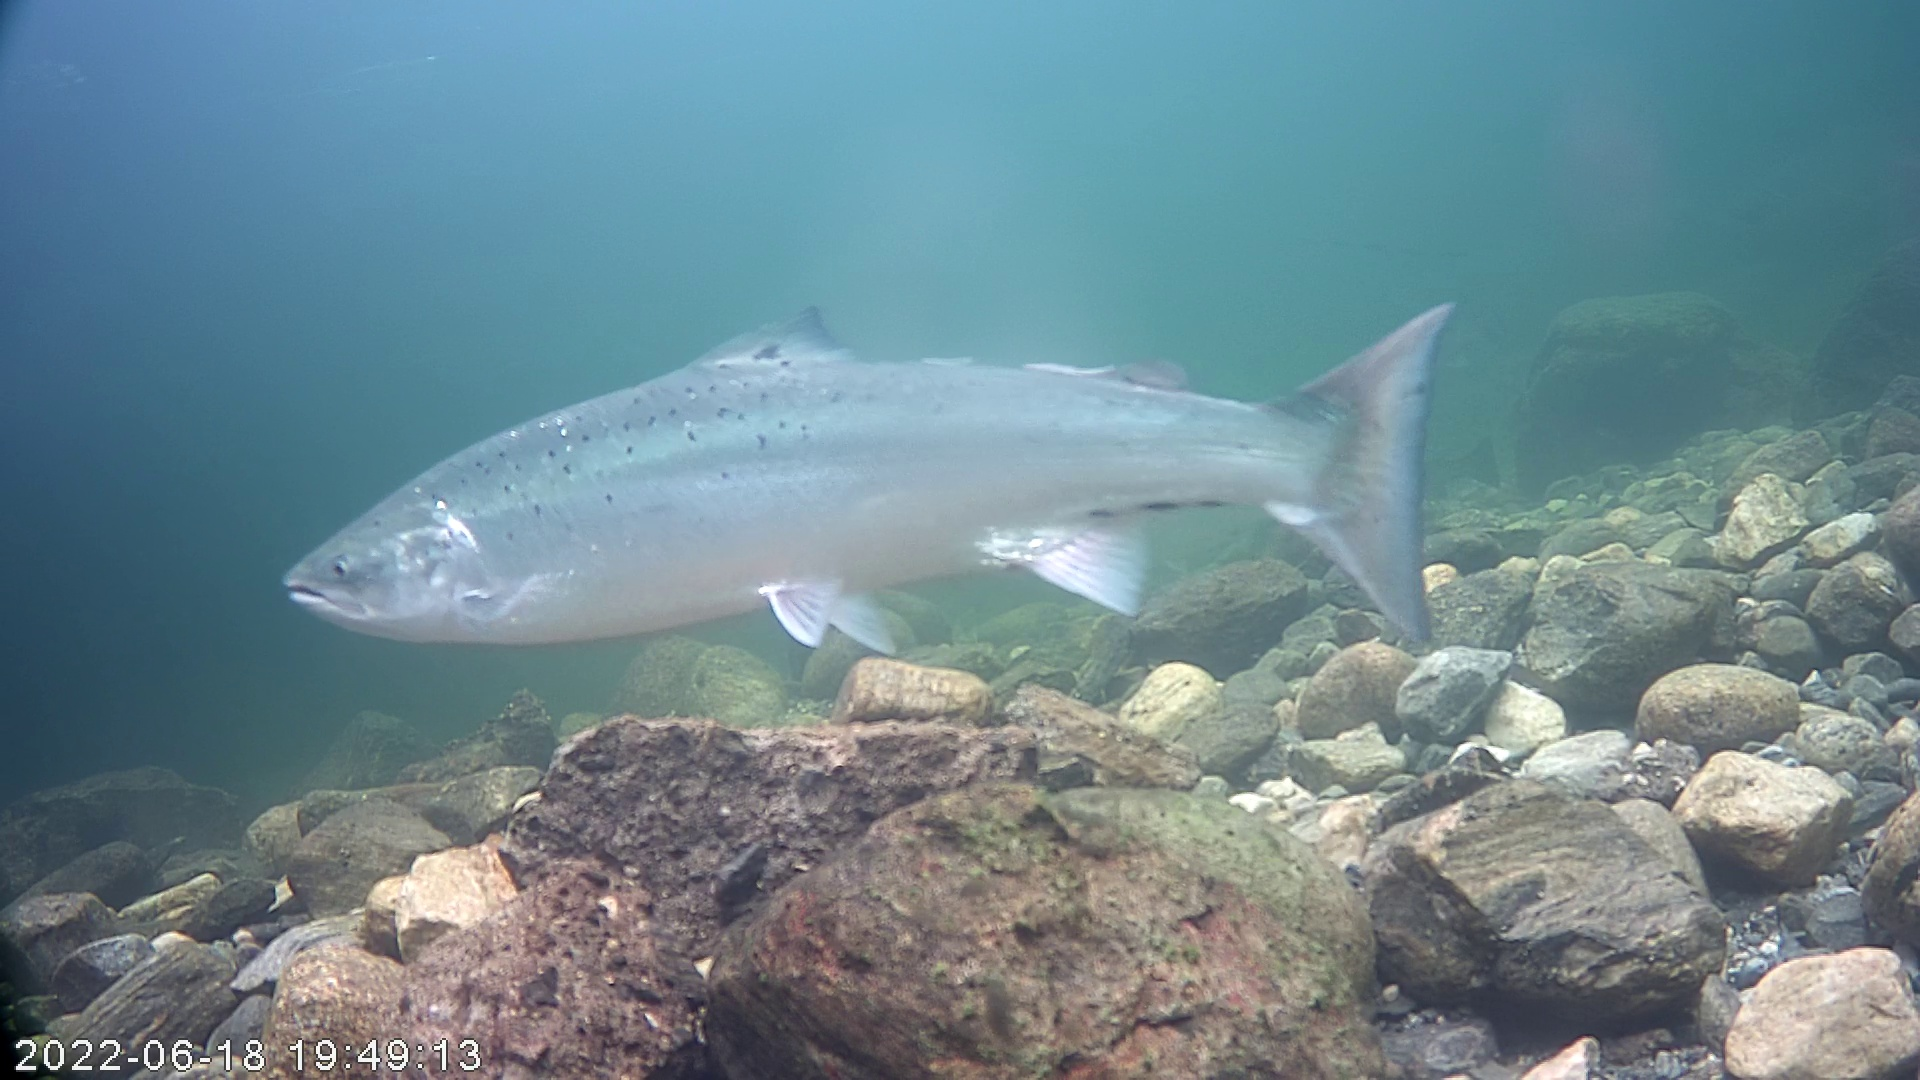salmon: (276, 295, 1455, 657)
